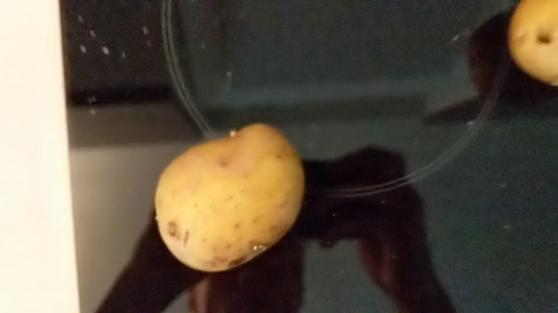potato: (154, 119, 304, 272)
